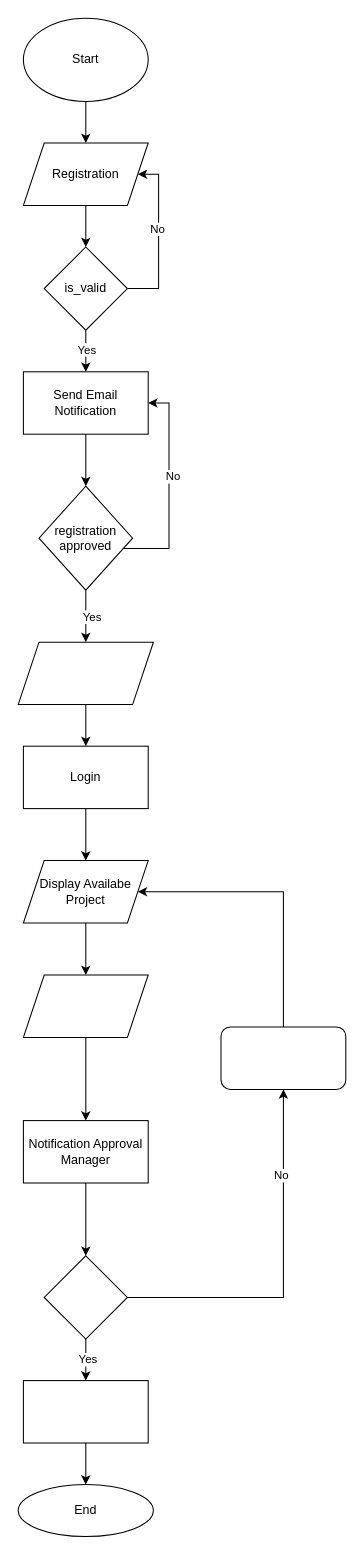
The diagram is 364 pixels wide and 1555 high, and some of its shapes have lost their labels. The shapes that lost their labels are listed below. From the top down, each one's centre as x and y in pixels, then its label:
At point 85,673: "Input data Vendor".
At point 85,1005: "Request tender".
At point 283,1057: "Not Approve Notification".
At point 85,1297: "is_Approve".
At point 85,1411: "Approve Notification".
